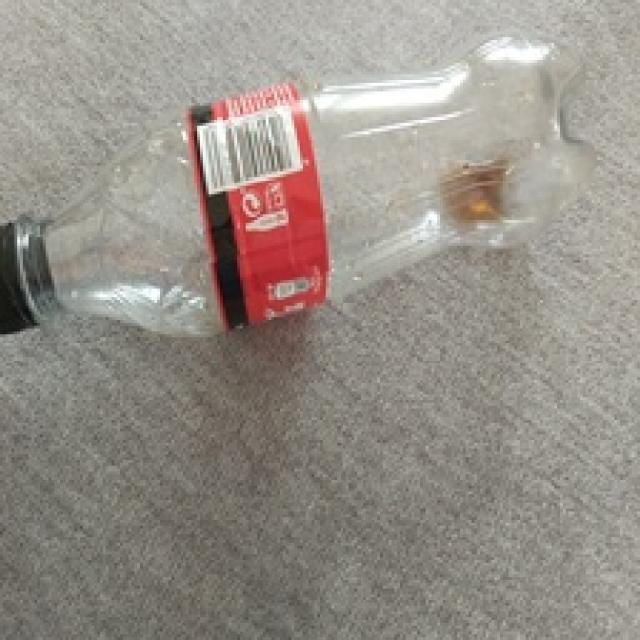Plastic: (0, 35, 598, 336)
